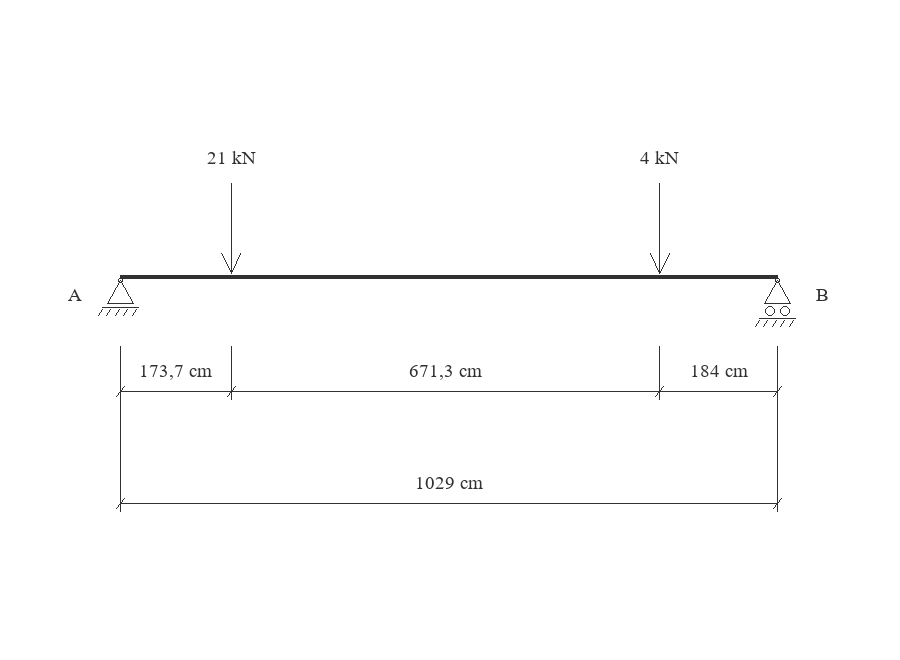pin_support: (98, 278, 139, 316)
point_load: (221, 183, 241, 274), (650, 183, 670, 274)
roller_support: (755, 278, 796, 327)
